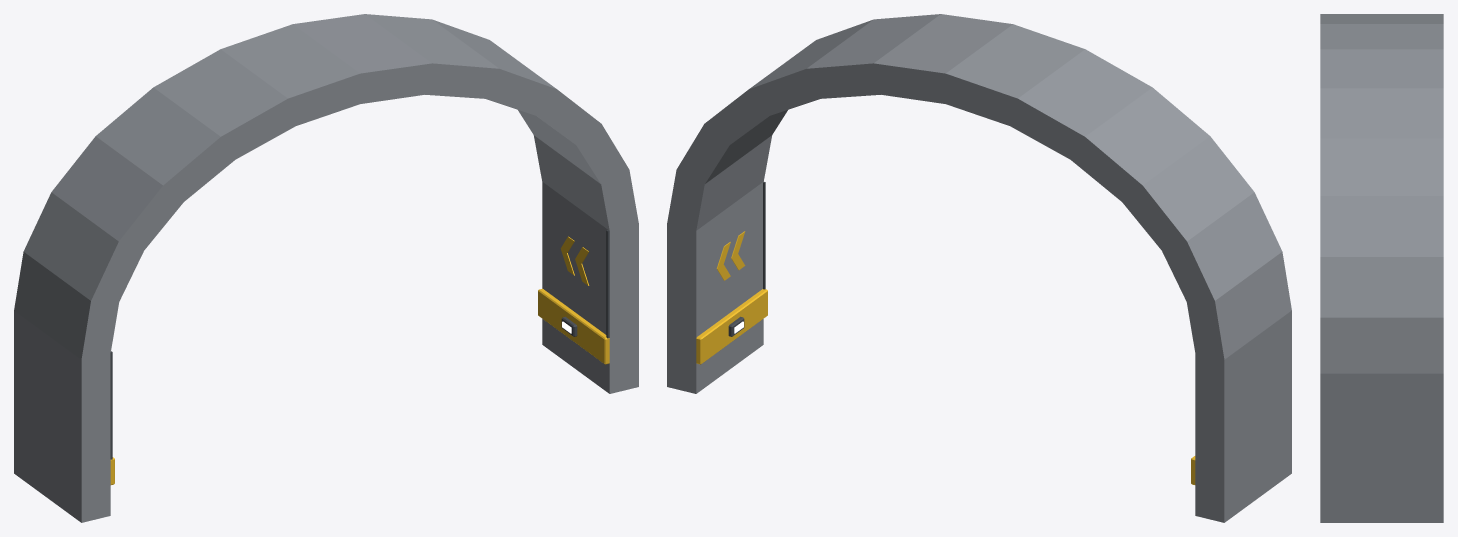
Rendered from Tunnel_Bay_3m.fbx.
3 renders of one model, left to right at view 1: azimuth 30°, elevation 25°; view 2: azimuth 150°, elevation 25°; view 3: azimuth 270°, elevation 25°, orthographic. The views are drawn at different scales.
Parts seen in each view (by area): view 1: Tunnel_Bay_3m; view 2: Tunnel_Bay_3m; view 3: Tunnel_Bay_3m.
Boxes of the visible parts, <box> form: Tunnel_Bay_3m: <box>14,14,638,522</box>; Tunnel_Bay_3m: <box>667,14,1291,522</box>; Tunnel_Bay_3m: <box>1320,14,1443,522</box>.
Size of the model in its own units: 1430 by 935 by 300.
